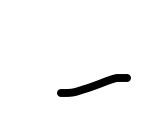minus: (57, 73, 131, 97)
